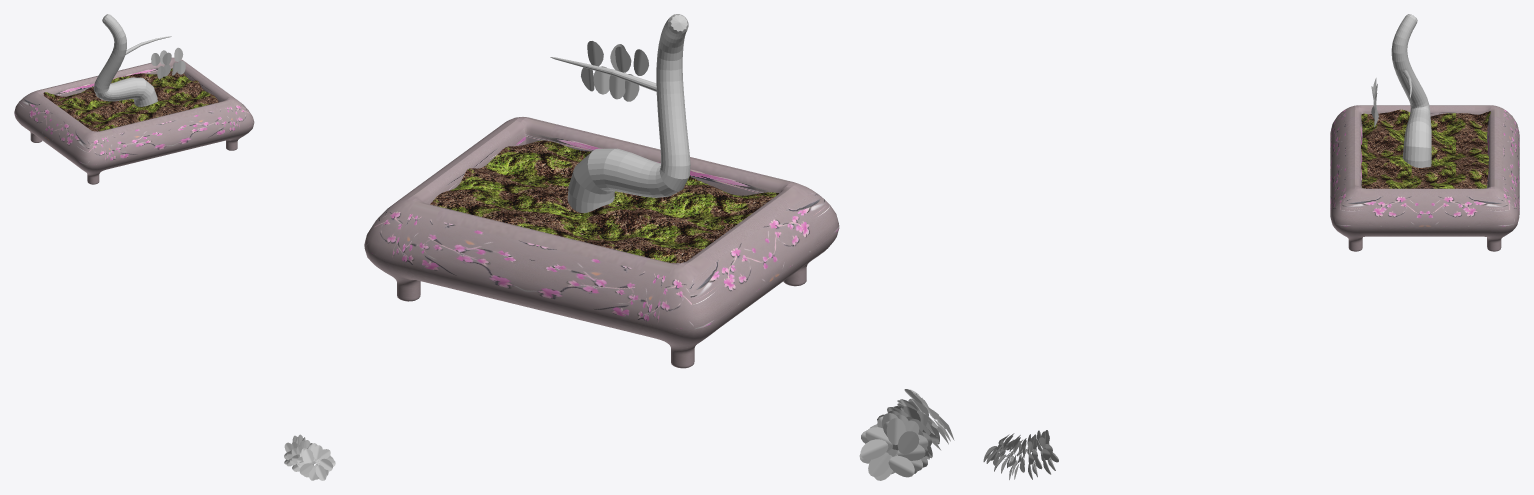
File: bonsai.fbx
3 views of the same model, side by side, from view 1: azimuth 30°, elevation 25°; view 2: azimuth 150°, elevation 25°; view 3: azimuth 270°, elevation 25° (orthographic). The views are drawn at different scales.
Visible parts, largest first — view 1: Cube, Plane, Vert.001; view 2: Cube, Plane, Vert.001, Vert.004; view 3: Cube, Plane, Vert.001.
Part boxes in pixels (bbox=[...]): Cube: bbox=[14, 57, 254, 184]; Plane: bbox=[43, 68, 218, 131]; Vert.001: bbox=[93, 14, 157, 106]; Cube: bbox=[364, 117, 839, 368]; Plane: bbox=[430, 140, 778, 263]; Vert.001: bbox=[567, 14, 690, 213]; Vert.004: bbox=[550, 57, 656, 91]; Cube: bbox=[1330, 105, 1519, 251]; Plane: bbox=[1361, 109, 1490, 188]; Vert.001: bbox=[1391, 14, 1431, 167].
Bounding box in the file's own units: 156 × 306 × 340.
